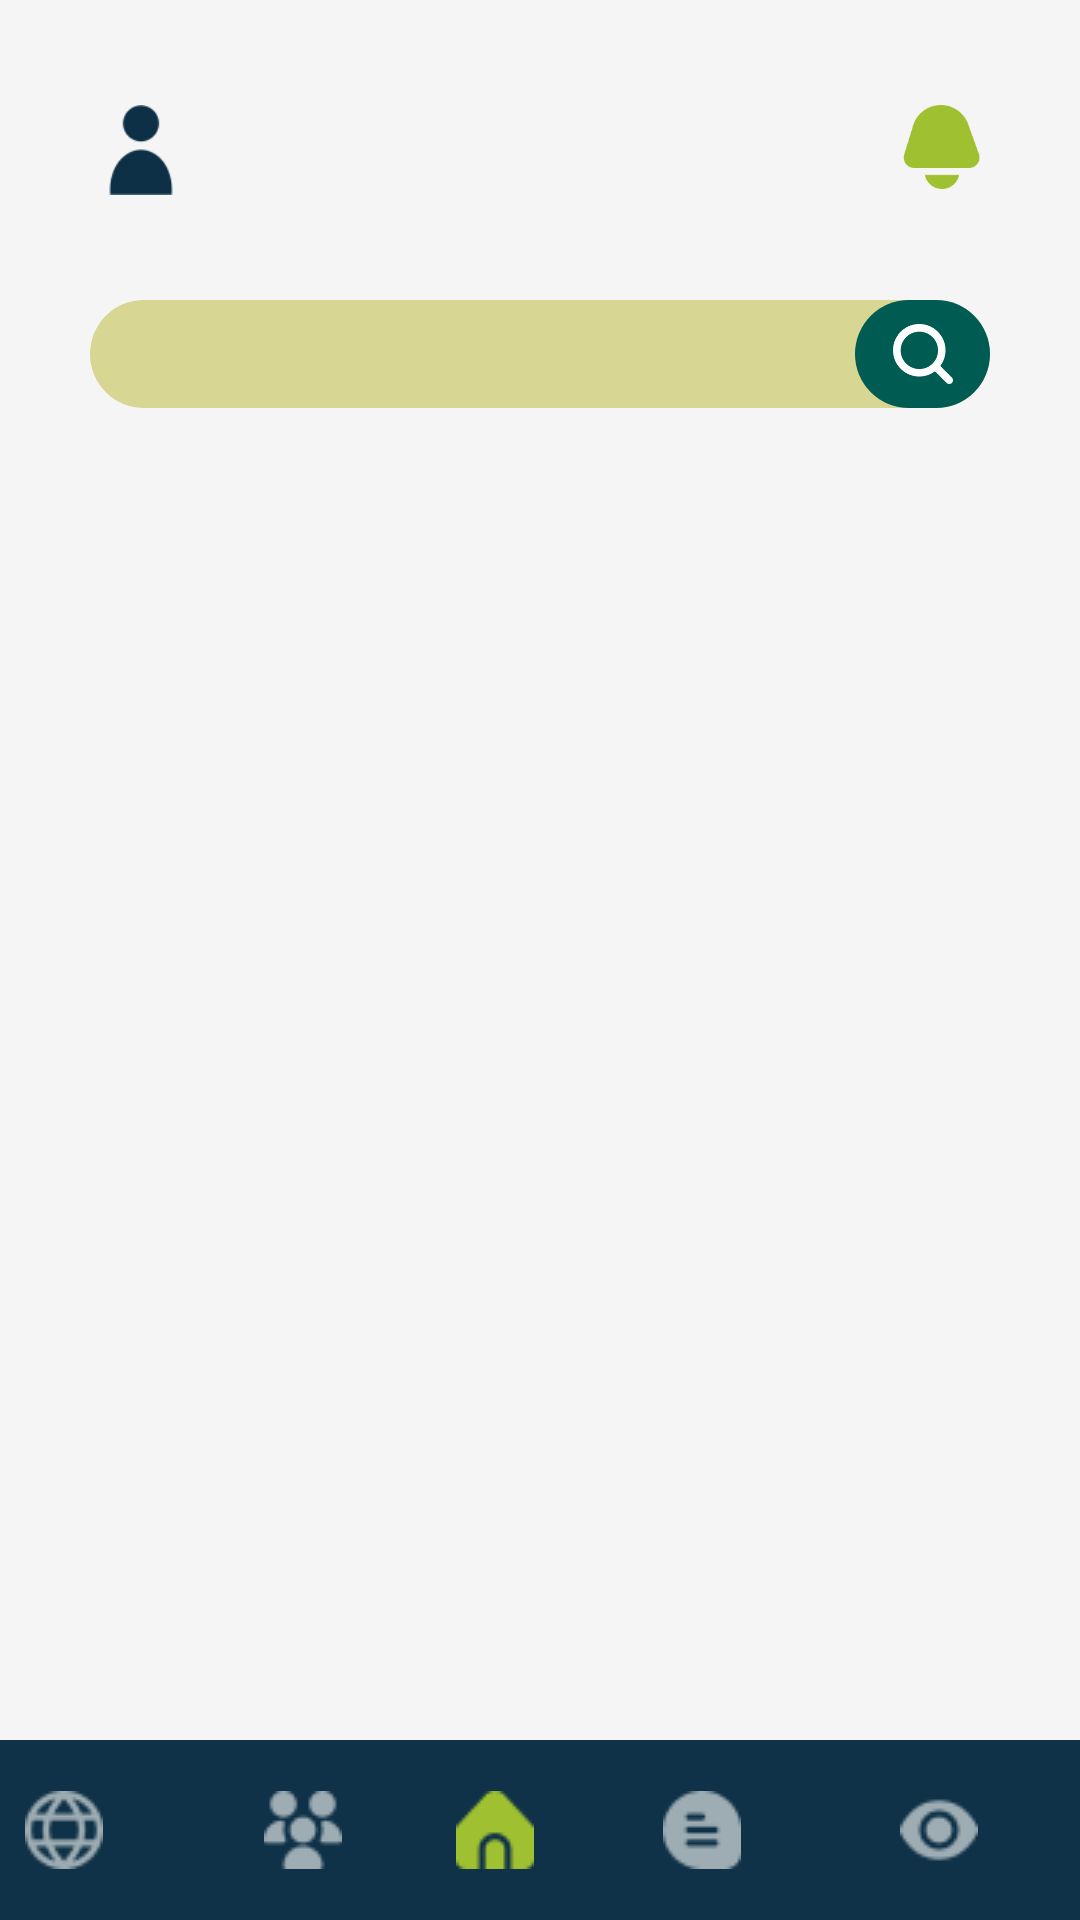

Screen size 1080*1920. Icon name, then its box in pixels as (x1, y1, x2, y2):
buscar: (893, 324, 953, 384)
campana: (903, 105, 980, 189)
comentario: (663, 1791, 741, 1869)
home: (456, 1791, 534, 1869)
ojo: (900, 1799, 978, 1861)
usuario: (109, 105, 173, 195)
usuarios: (264, 1791, 342, 1869)
